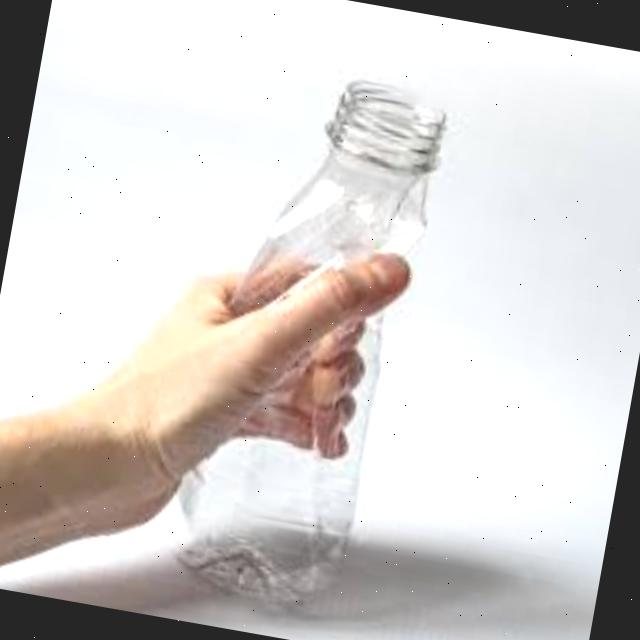trash: (138, 41, 489, 625)
